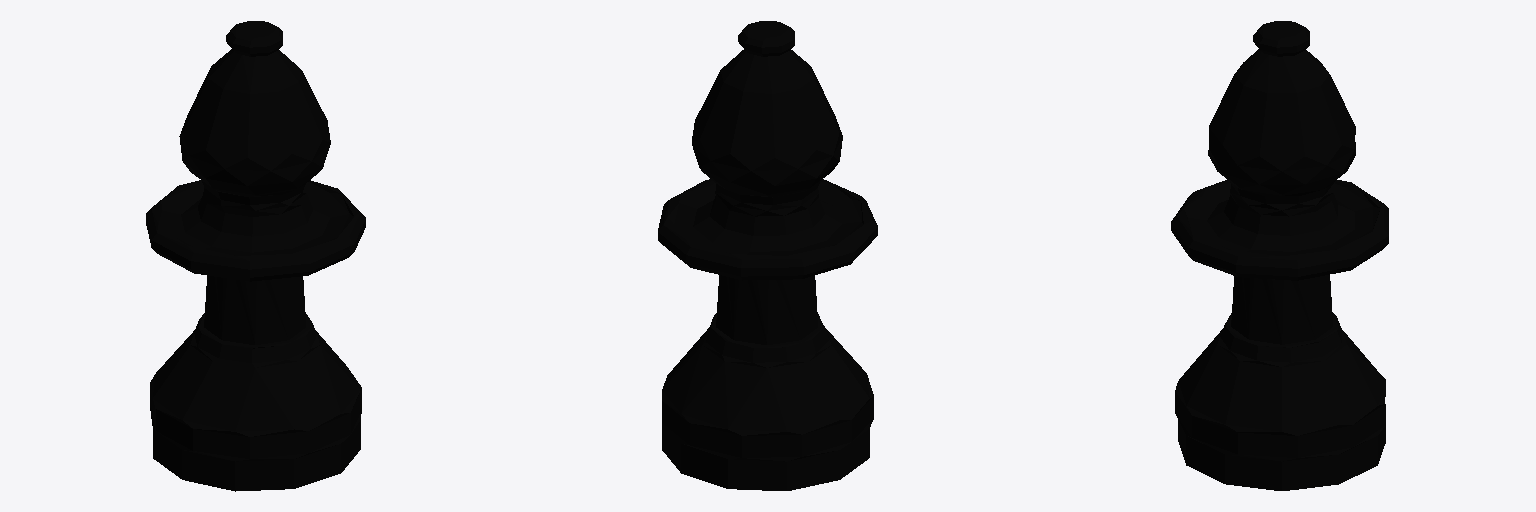
URDF robot description (bishop):
<?xml version="1.0" ?>
<robot name="bishop">
    
  <link name="bishop__link_0">
    <inertial>
      <mass value="0.002"/>
      <origin rpy="0  0  0" xyz="0  0  0"/>
      <inertia ixx="0.145833" ixy="0" ixz="0" iyy="0.145833" iyz="0" izz="0.125"/>
    </inertial>
    
    <collision name="bishop__collision">
      <origin rpy="1.570795  0  0" xyz="0  0  0"/>
      <geometry>
        <mesh filename="package://chessRobot/models/pieces/bishop/blackBishop.dae" scale="0.01 0.01 0.01"/>
      </geometry>
    <mu1 value="1.0"/>
    <mu2 value="1.0"/>
    <kp  value="10000000.0" />
    <kd  value="1.0" />
    <minDepth>0.002</minDepth>
    <maxVel>0</maxVel>  
    <dynamics damping="0.7" friction="1000" />
    </collision>
    
    <visual name="bishop__visual">
      <origin rpy="1.570795  0  0" xyz="0  0  0"/>
      <geometry>
        <mesh filename="package://chessRobot/models/pieces/bishop/blackBishop.dae" scale="0.01 0.01 0.01"/>
      </geometry>
    </visual>
  </link>
</robot> 

--- Facts derived from the render (not from the file) ---
3 views of the same robot in one strip: view 1: azimuth 30°, elevation 25°; view 2: azimuth 150°, elevation 25°; view 3: azimuth 270°, elevation 25° (orthographic).
Robot: bishop — 1 links, 0 joints (none); root link bishop__link_0; default pose: every joint at zero.
Visible links, largest first — view 1: bishop__link_0; view 2: bishop__link_0; view 3: bishop__link_0.
Boxes of the visible links, <box> form: bishop__link_0: <box>146,21,365,491</box>; bishop__link_0: <box>658,21,877,490</box>; bishop__link_0: <box>1171,21,1388,490</box>.
Bounding box of the posed robot: 0.0335 × 0.0332 × 0.07 m (x, y, z).
1 mesh visuals loaded from 1 distinct referenced files (1 Collada DAE).
